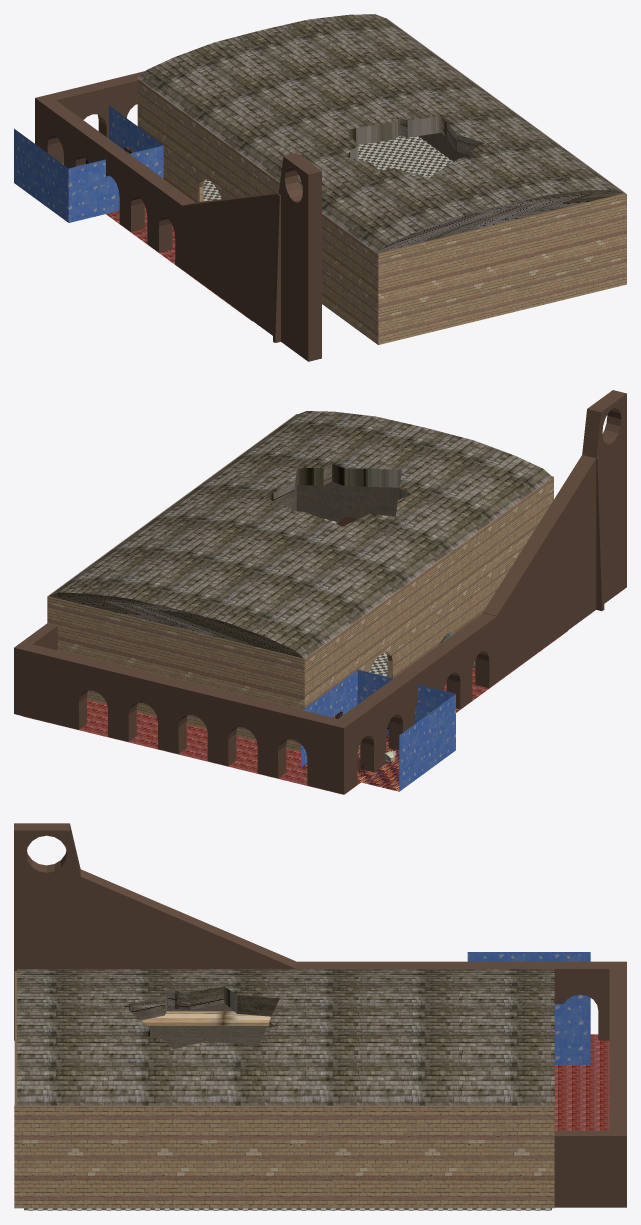
Rendered from scream_jam_disco.glb.
3 views of the same model, one above another, from view 1: azimuth 30°, elevation 25°; view 2: azimuth 150°, elevation 25°; view 3: azimuth 270°, elevation 25° (orthographic). The views are drawn at different scales.
Parts seen in each view (by area): view 1: bar, room; view 2: bar, room; view 3: bar, room.
Boxes of the visible parts, left/top/right/bottom form: bar: left=35, top=14, right=626, bottom=361; room: left=14, top=105, right=163, bottom=222; bar: left=14, top=390, right=626, bottom=794; room: left=301, top=670, right=455, bottom=791; bar: left=14, top=823, right=626, bottom=1210; room: left=467, top=952, right=590, bottom=1064.
Bounding box in the file's own units: 34.91 × 17.94 × 45.93.
Materials: 28 (19 with a texture image).
